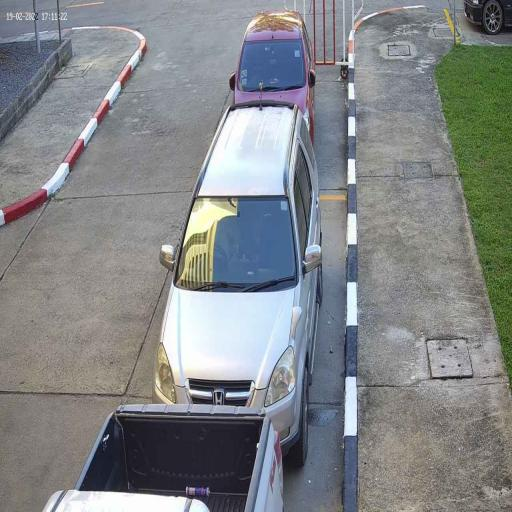car: (154, 103, 322, 473), (41, 406, 286, 512), (233, 12, 315, 132)
